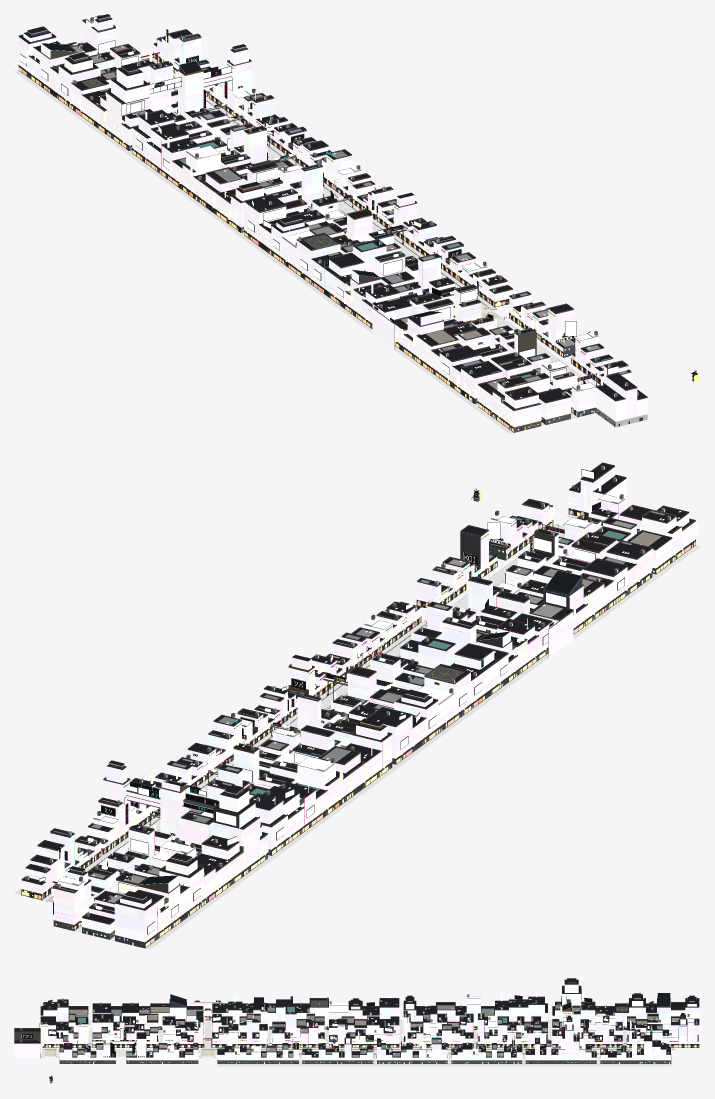
File: world-phone-japantown.glb
The picture shows the model from 3 angles, top to bottom: view 1: azimuth 30°, elevation 25°; view 2: azimuth 150°, elevation 25°; view 3: azimuth 270°, elevation 25°; orthographic projection. The views are drawn at different scales.
Visible parts, largest first — view 1: japantown_facade, japantown_trim, japantown_roof, japantown_sign, japantown_sidewalk, japantown_billboard, japantown_plaster, japantown_glow, japantown_board_frame, japantown_shop, japantown_asphalt; view 2: japantown_facade, japantown_trim, japantown_roof, japantown_sign, japantown_sidewalk, japantown_plaster, japantown_glow, japantown_board_frame, japantown_billboard, japantown_shop, japantown_asphalt, japantown_glass_dark; view 3: japantown_facade, japantown_roof, japantown_trim, japantown_plaster, japantown_sidewalk, japantown_glow, japantown_sign, japantown_board_frame, japantown_shop, japantown_asphalt, japantown_skylight, japantown_glass_dark (+5 smaller).
Part boxes in pixels (x1,y1,x2,y2): japantown_facade: [18, 19, 647, 427]; japantown_trim: [18, 15, 647, 432]; japantown_roof: [20, 14, 645, 409]; japantown_sign: [18, 33, 631, 426]; japantown_sidewalk: [14, 58, 576, 433]; japantown_billboard: [20, 40, 618, 380]; japantown_plaster: [27, 15, 638, 432]; japantown_glow: [23, 16, 641, 430]; japantown_board_frame: [20, 29, 618, 395]; japantown_shop: [18, 55, 600, 431]; japantown_asphalt: [230, 121, 595, 386]; japantown_facade: [21, 467, 695, 942]; japantown_trim: [21, 462, 695, 947]; japantown_roof: [23, 463, 693, 923]; japantown_sign: [21, 481, 698, 940]; japantown_sidewalk: [14, 514, 700, 949]; japantown_plaster: [25, 465, 693, 948]; japantown_glow: [28, 467, 670, 926]; japantown_board_frame: [23, 469, 681, 934]; japantown_billboard: [39, 469, 624, 933]; japantown_shop: [22, 510, 695, 947]; japantown_asphalt: [148, 518, 571, 831]; japantown_glass_dark: [140, 570, 581, 884]; japantown_facade: [14, 984, 699, 1060]; japantown_roof: [14, 978, 699, 1056]; japantown_trim: [14, 981, 699, 1063]; japantown_plaster: [20, 994, 697, 1063]; japantown_sidewalk: [40, 1019, 674, 1066]; japantown_glow: [21, 993, 696, 1062]; japantown_sign: [39, 992, 700, 1062]; japantown_board_frame: [22, 988, 698, 1059]; japantown_shop: [41, 1017, 698, 1063]; japantown_asphalt: [44, 1049, 525, 1057]; japantown_skylight: [44, 999, 674, 1053]; japantown_glass_dark: [170, 993, 670, 1010].
Size of the model in its own units: 175 by 59.04 by 784.
